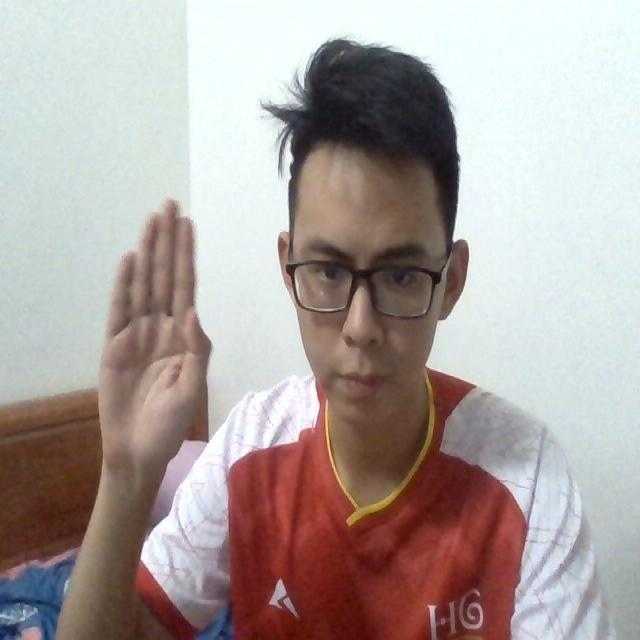B: (95, 197, 217, 464)
